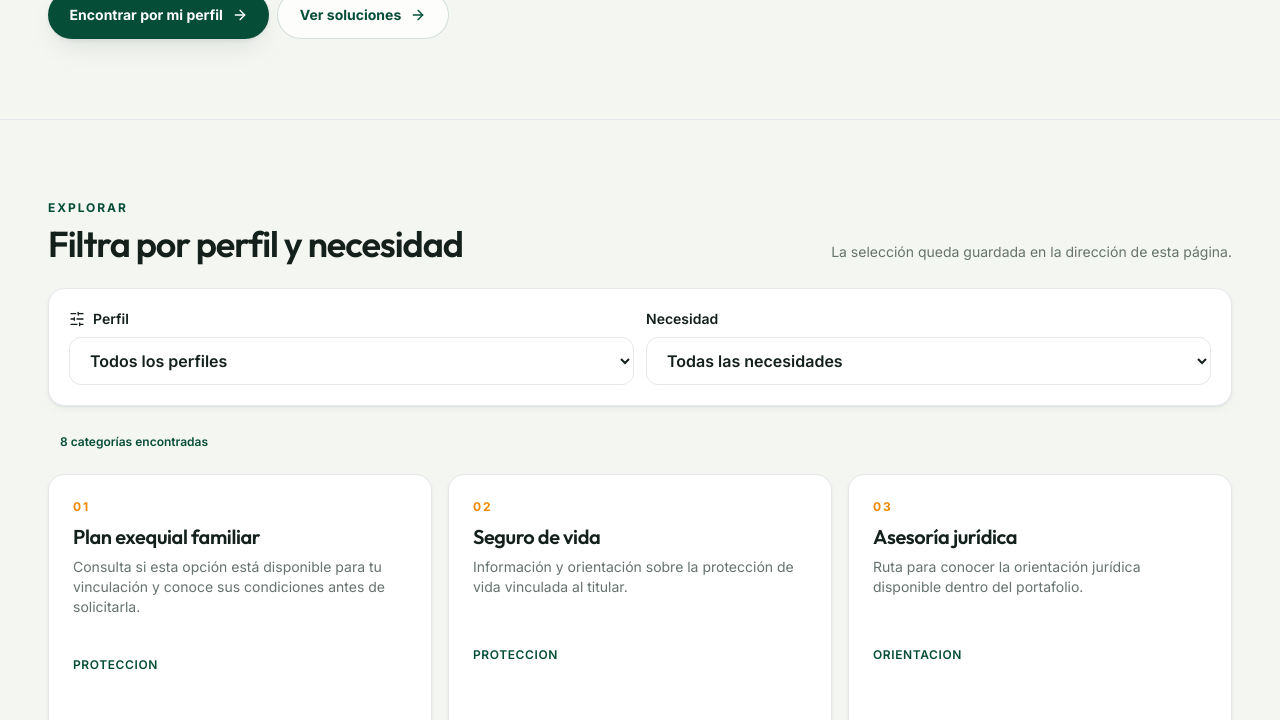
Test case: BenefitsPage › filters the sourced registry by audience and need
The image size is (1280, 720).
(page scrolled)
Expected: the text "8 categorías encontradas" is shown, x1=60 y1=434 x2=208 y2=449
Select "Educación" in the dropdown labelled "Necesidad" at (928, 361), box x1=646 y1=337 x2=1211 y2=385
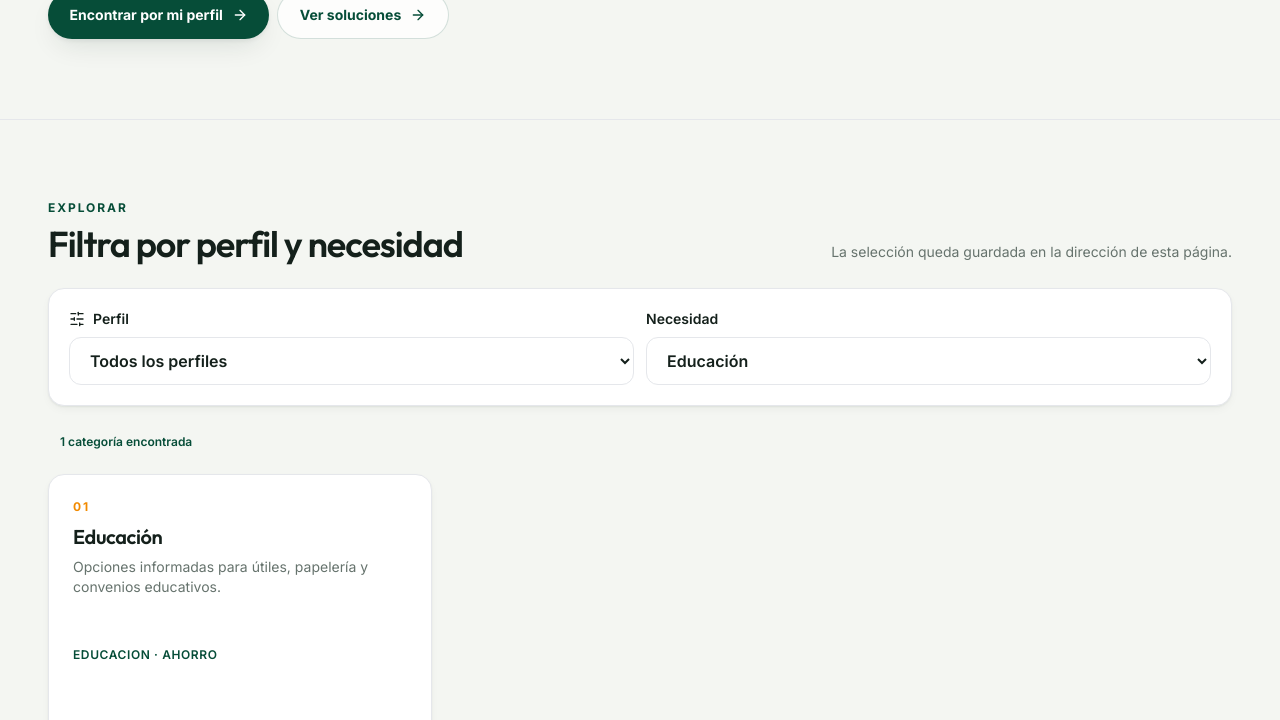
Expected: the heading "Educación" is shown, x1=73 y1=524 x2=162 y2=549
Result: the text "1 categoría encontrada" is shown at x1=60 y1=434 x2=192 y2=449
